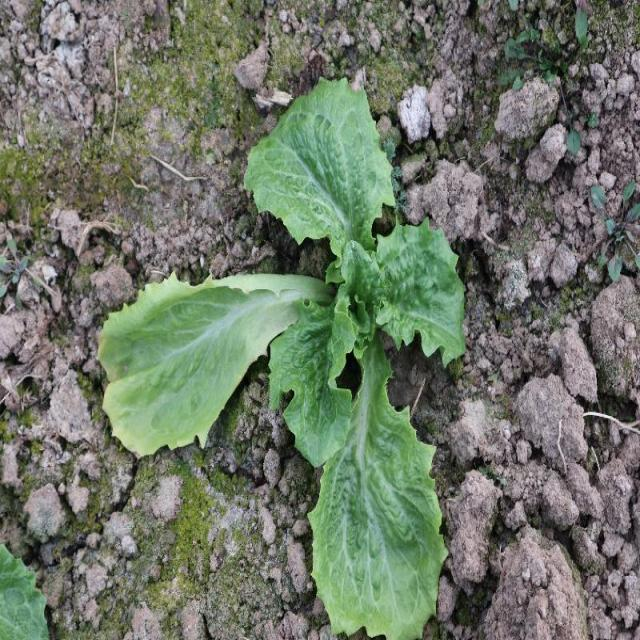crop: (96, 74, 467, 640)
